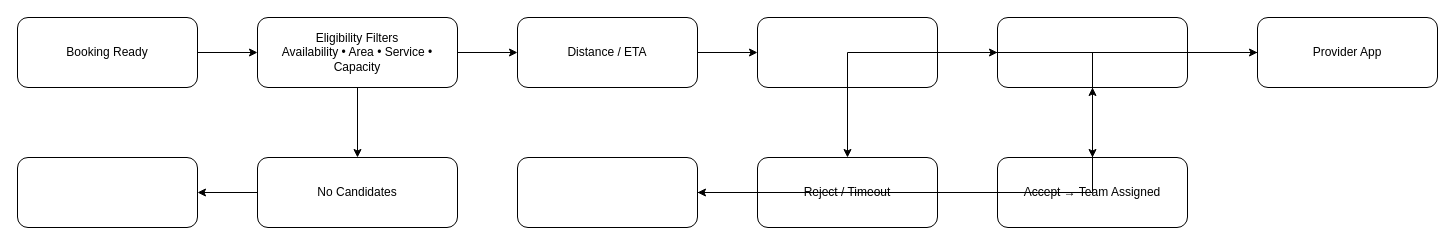
Some shapes in this 1455 by 245 pixel diagram are drawn without their labels. The centre of each missing label's shape, as x and y in pixels:
"Admin Alert / Manual Dispatch" goes at point 107,192.
"Assignment Offer" goes at point 1092,52.
"Candidate Scoring" goes at point 847,52.
"Reassign" goes at point 607,192.
